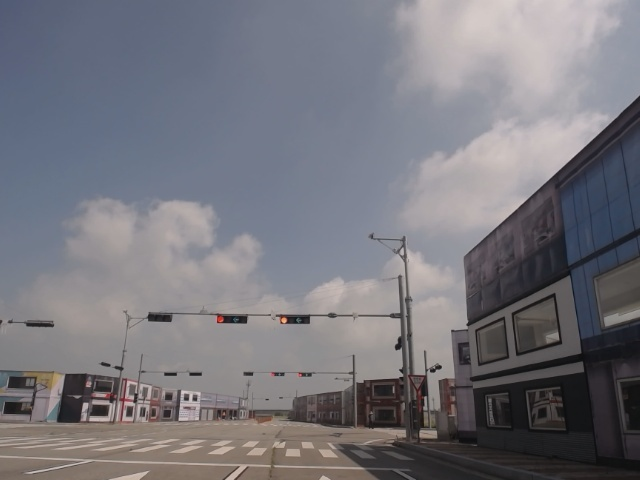left_green_4: (217, 315, 247, 323), (280, 317, 311, 324)
